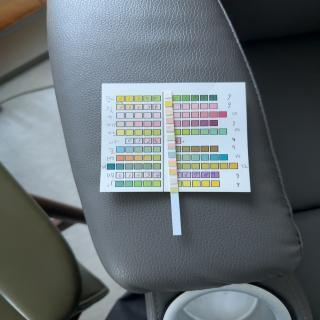mark: (164, 92, 172, 100), (168, 160, 176, 167), (170, 186, 178, 192), (168, 152, 176, 158), (167, 144, 175, 150), (170, 178, 177, 184), (170, 170, 177, 176), (166, 127, 173, 133), (165, 109, 172, 115), (168, 134, 174, 140), (166, 118, 172, 124), (166, 102, 172, 106)
